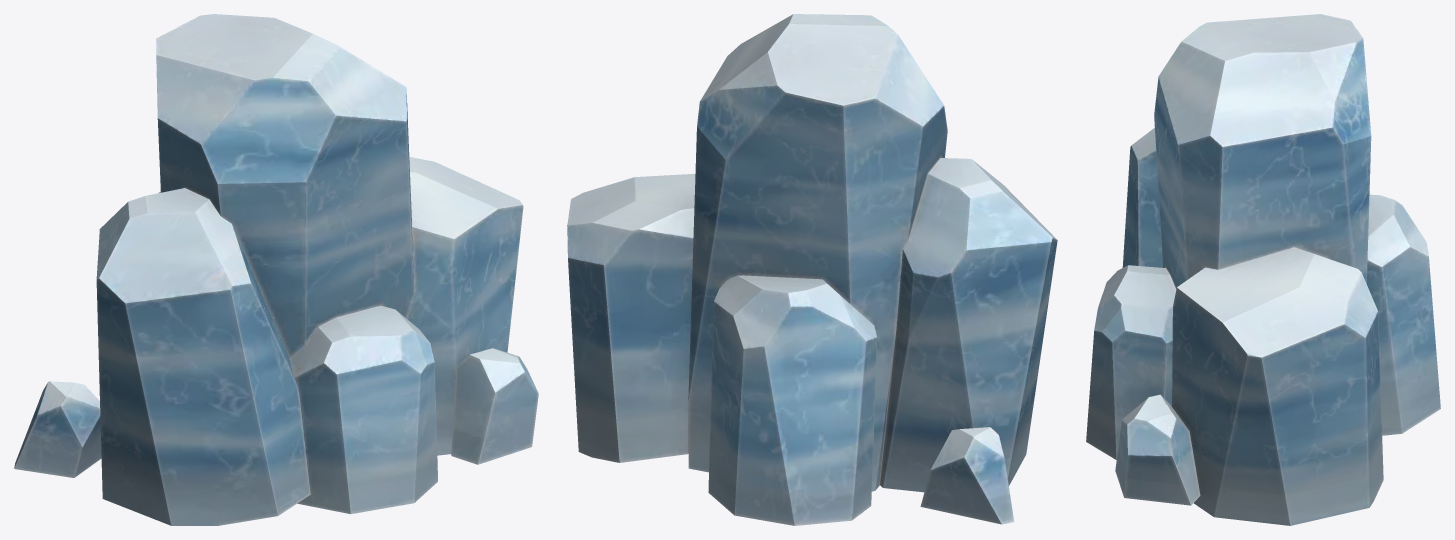
Rendered from ice_block_large.glb.
3 views of the same model, side by side, from view 1: azimuth 30°, elevation 25°; view 2: azimuth 150°, elevation 25°; view 3: azimuth 270°, elevation 25° (orthographic). The views are drawn at different scales.
Visible parts, largest first — view 1: Static_Mesh; view 2: Static_Mesh; view 3: Static_Mesh.
Part boxes in pixels (left/top/right/bottom): Static_Mesh: left=14, top=14, right=538, bottom=525; Static_Mesh: left=567, top=14, right=1057, bottom=525; Static_Mesh: left=1086, top=14, right=1440, bottom=525.
Bounding box in the file's own units: 3.89 × 3.25 × 2.69.
Materials: 1 (1 with a texture image).
